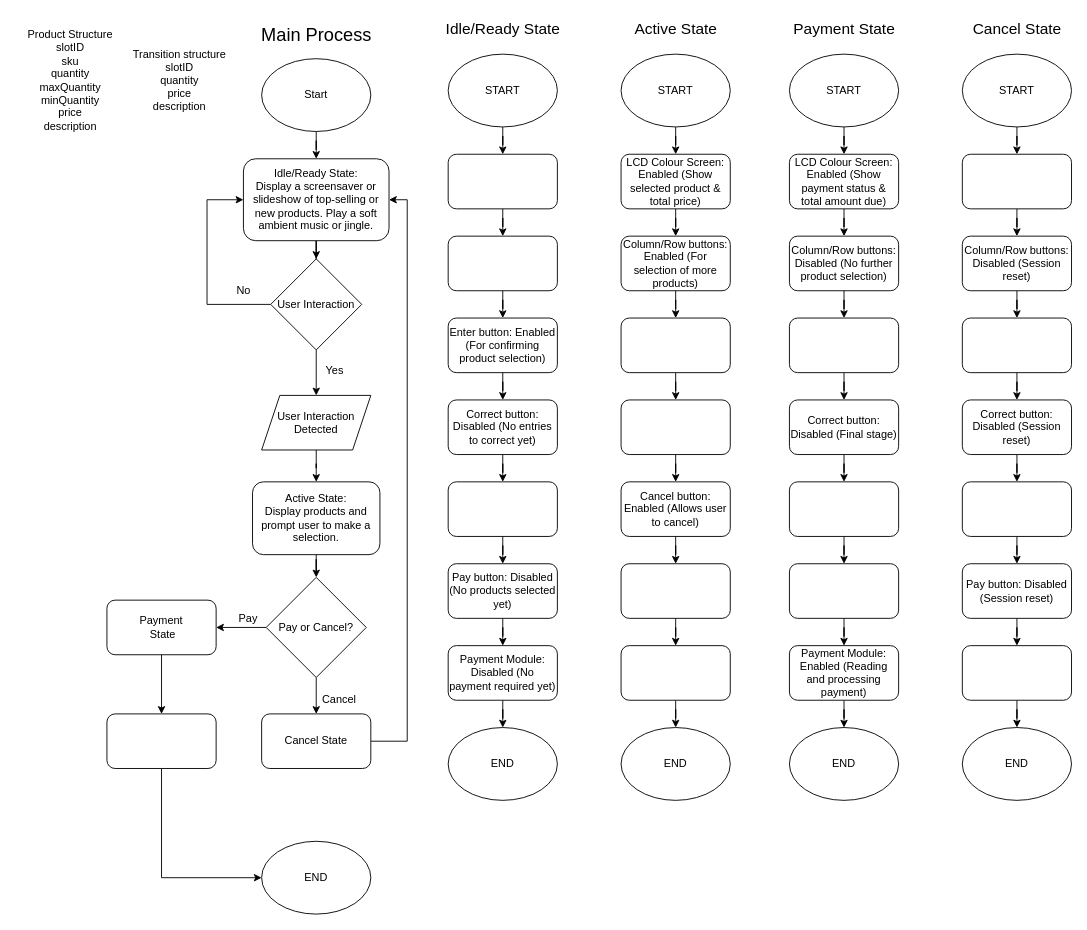
Image size: 1087x930. Some labels were removed from this diagram. The shapes that lost their labels are listed below. From the top down, each one's centre as x and y in pixels, then its label:
At pixel 502 181: "LCD Colour Screen: Enabled (Show available products & prices)".
At pixel 1016 181: "LCD Colour Screen: Enabled (Show cancellation message)".
At pixel 502 263: "Column/Row buttons: Enabled (Awaiting customer selection of products)".
At pixel 675 345: "Enter button: Enabled (To add more products to session)".
At pixel 844 345: "Enter button: Disabled (No more products to add)".
At pixel 1016 345: "Enter button: Disabled (Session reset)".
At pixel 675 427: "Correct button: Enabled (To correct any entry)".
At pixel 502 508: "Cancel button: Enabled (Allows user to cancel at any time)".
At pixel 844 508: "Cancel button: Enabled (Allows user to cancel before payment)".
At pixel 1016 508: "Cancel button: Disabled (Already in cancellation state)".
At pixel 675 590: "Pay button: Enabled (To proceed to payment)".
At pixel 844 590: "Pay button: Enabled (For the user to initiate the payment process)".
At pixel 675 672: "Payment Module: Disabled (Await payment confirmation)".
At pixel 1016 672: "Payment Module: Enabled (To return any inserted funds)".
At pixel 161 740: "Successful Payment Display Receipt".
